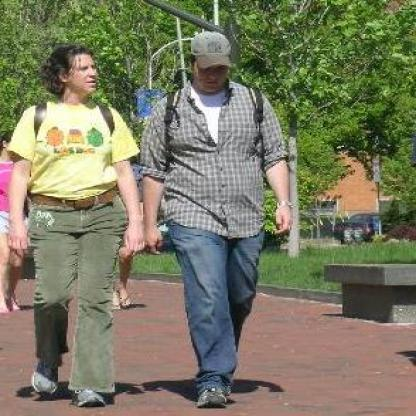person: (136, 27, 291, 404), (10, 46, 140, 414)
